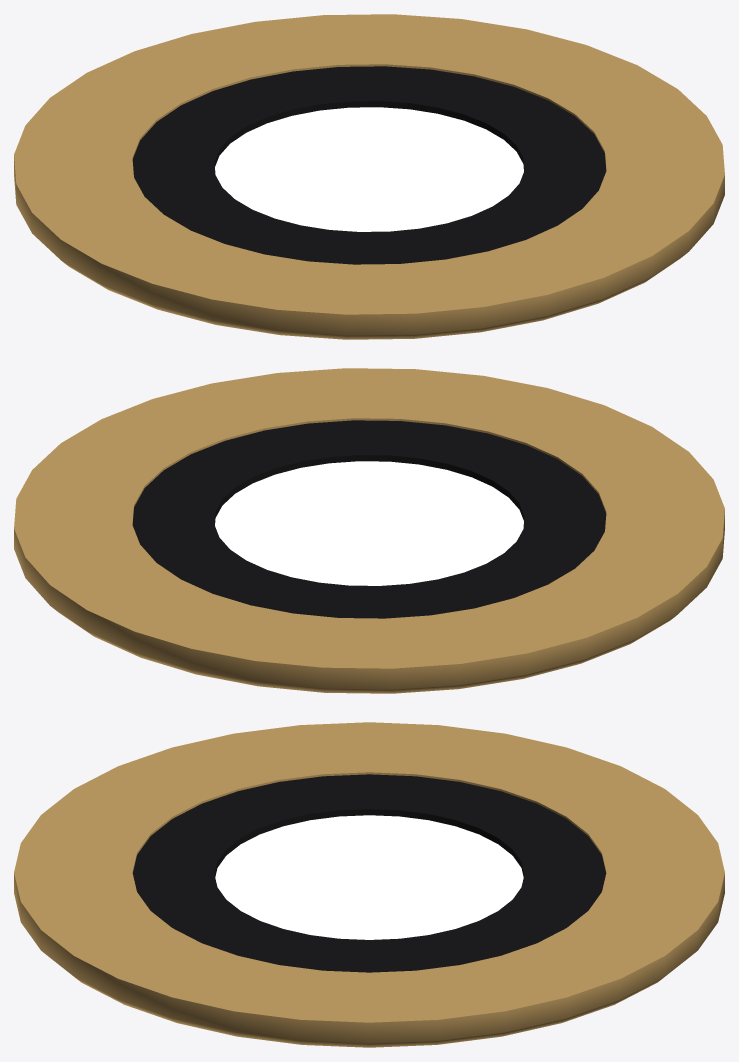
File: downlight.glb
3 views of the same model, one above another, from view 1: azimuth 30°, elevation 25°; view 2: azimuth 150°, elevation 25°; view 3: azimuth 270°, elevation 25° (orthographic).
Visible parts, largest first — view 1: Trim_LOD0, Baffle_LOD0, Lens_LOD0; view 2: Trim_LOD0, Baffle_LOD0, Lens_LOD0; view 3: Trim_LOD0, Baffle_LOD0, Lens_LOD0.
Part boxes in pixels (box(x1,y1,x2,y2)): Trim_LOD0: box(14, 14, 724, 339); Baffle_LOD0: box(132, 66, 606, 264); Lens_LOD0: box(215, 107, 523, 231); Trim_LOD0: box(14, 368, 724, 693); Baffle_LOD0: box(132, 420, 606, 618); Lens_LOD0: box(215, 461, 523, 585); Trim_LOD0: box(14, 722, 724, 1047); Baffle_LOD0: box(132, 774, 606, 972); Lens_LOD0: box(215, 815, 523, 939).
Size of the model in its own units: 0.156 by 0.007 by 0.156.
